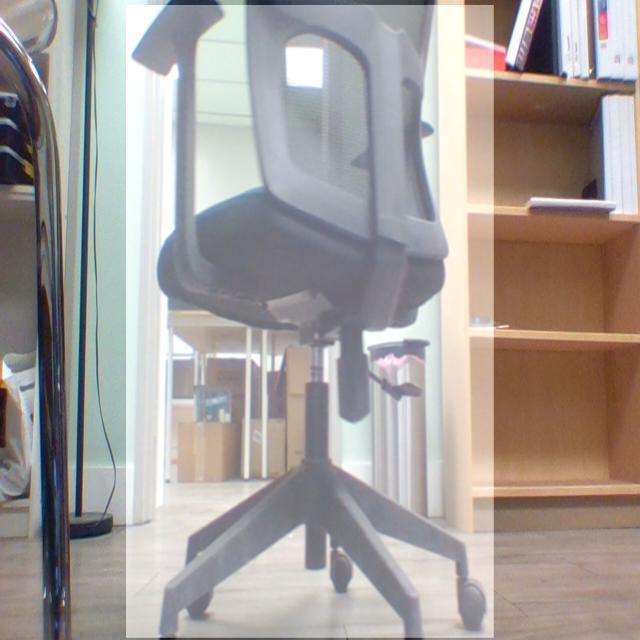chair: (133, 1, 488, 640)
